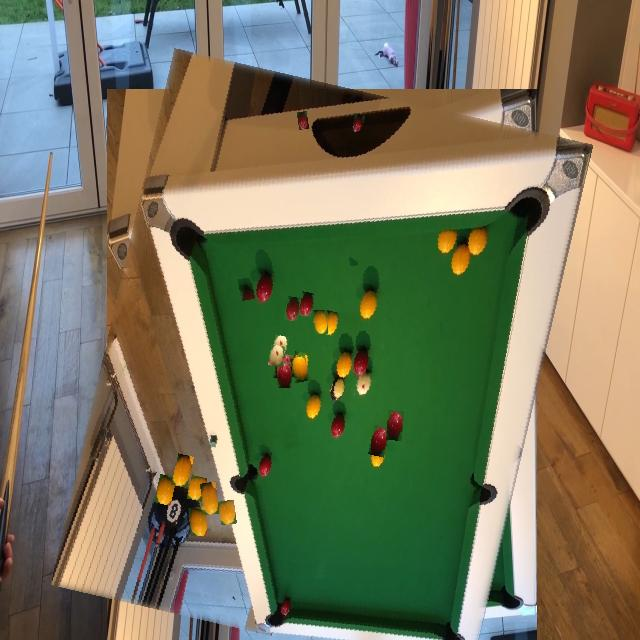Ball: (201, 483, 219, 515), (188, 507, 207, 536), (281, 418, 299, 448), (386, 411, 404, 441), (292, 357, 309, 384), (219, 501, 237, 525), (285, 296, 301, 322), (277, 362, 292, 388), (294, 332, 310, 356), (269, 344, 285, 367), (240, 277, 254, 301), (314, 310, 328, 334), (348, 242, 362, 266), (298, 112, 308, 130)
Billiard table: (78, 68, 565, 640)
